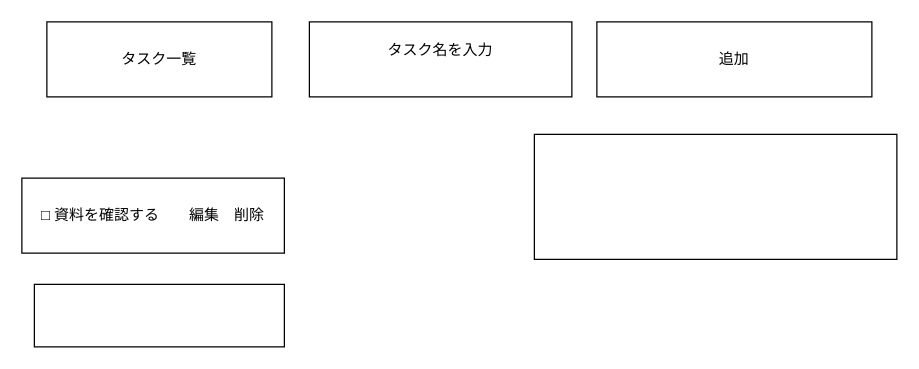
Some shapes in this 919 by 369 pixel diagram are drawn without their labels. The centre of each missing label's shape, as x and y in pixels:
□ 報告書を作成する 編集 削除: [158,315]
仕事用Todoリスト: [715,196]
